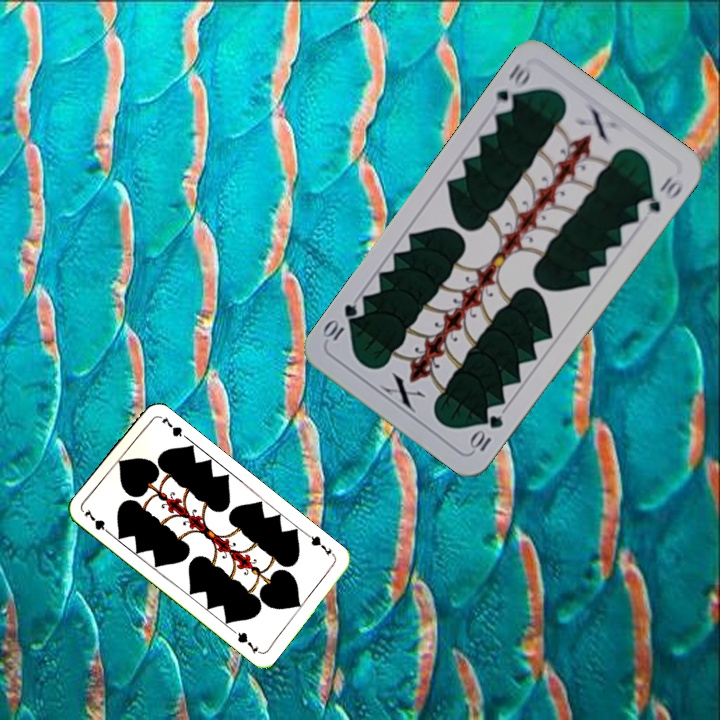G10: (491, 59, 535, 116), (466, 411, 506, 454)
G7: (79, 505, 114, 538), (303, 530, 338, 560)
